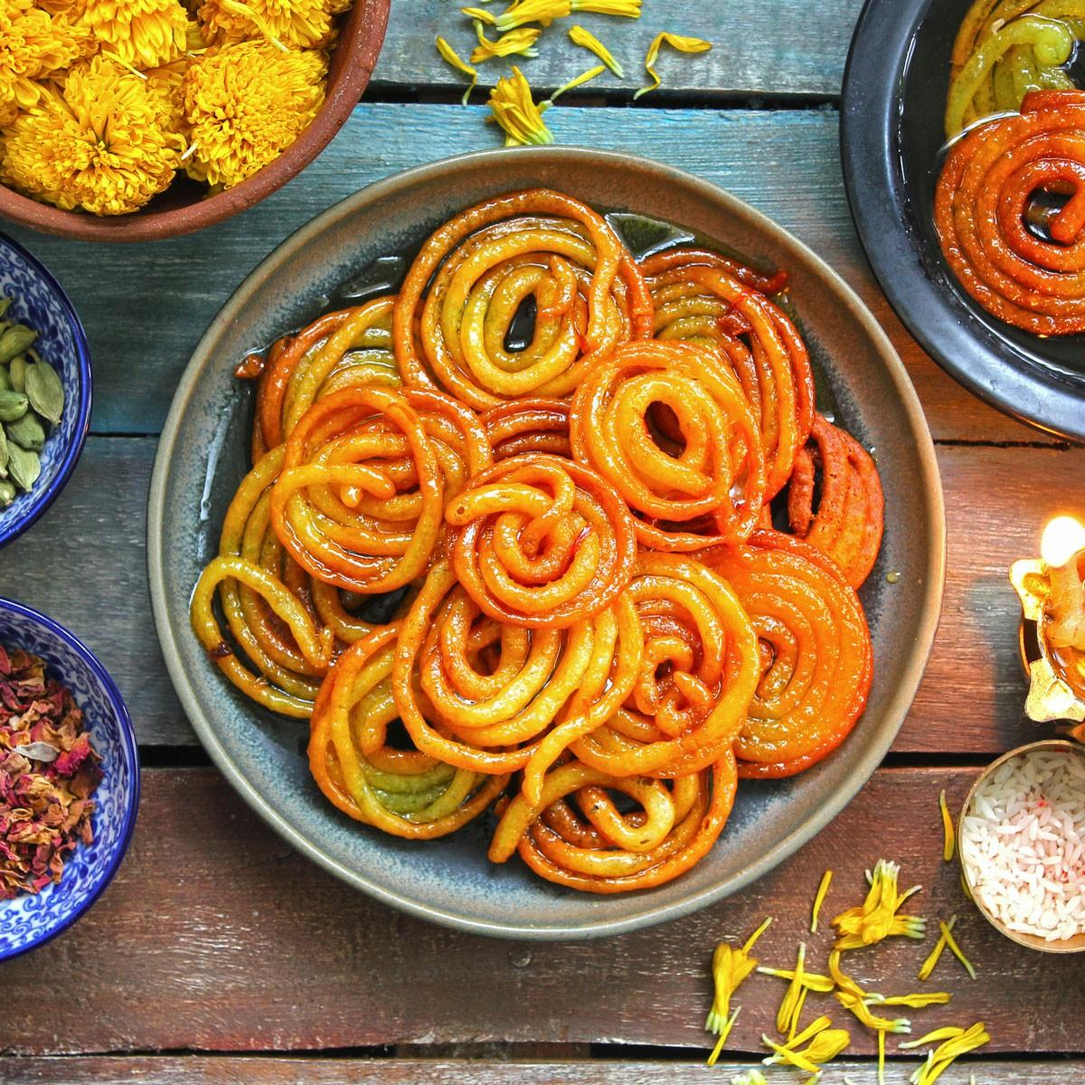Jalebi: (186, 188, 893, 905)
